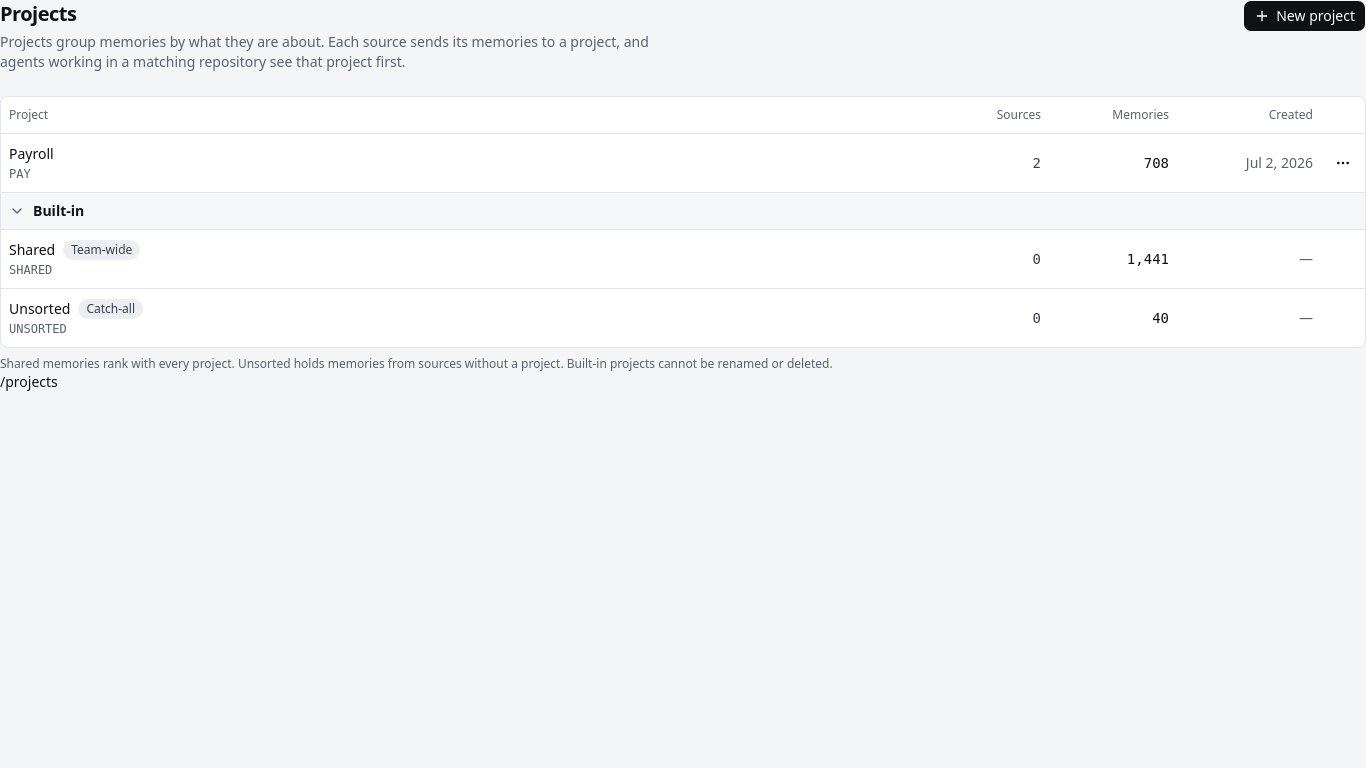
it: reopening the delete dialog reads the counts again even while other data is cached
The width and height of the screenshot is (1366, 768).
Click the button named "Actions for Payroll" at coordinates (1343, 162), box [1329,148,1357,176]
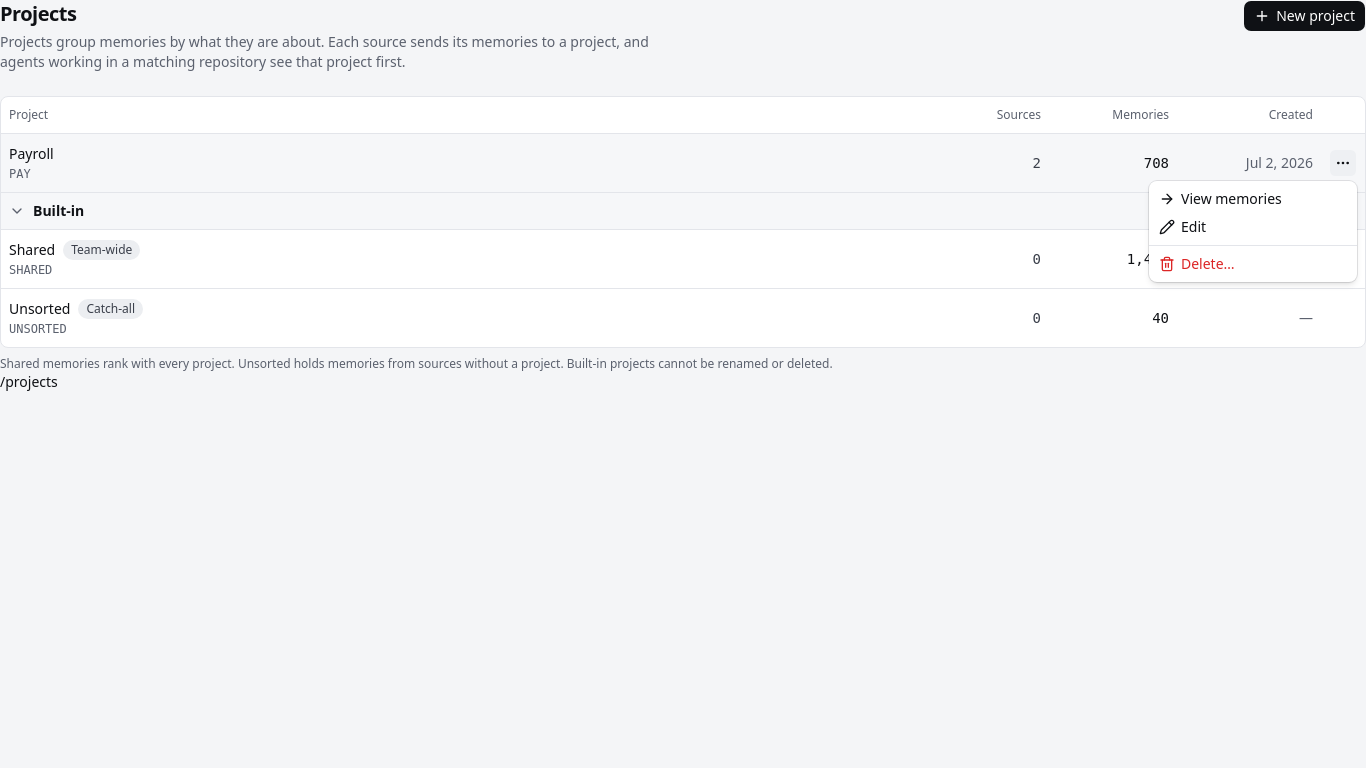
Click the menu item "Delete…" at coordinates (1197, 264), box [1159,254,1235,273]
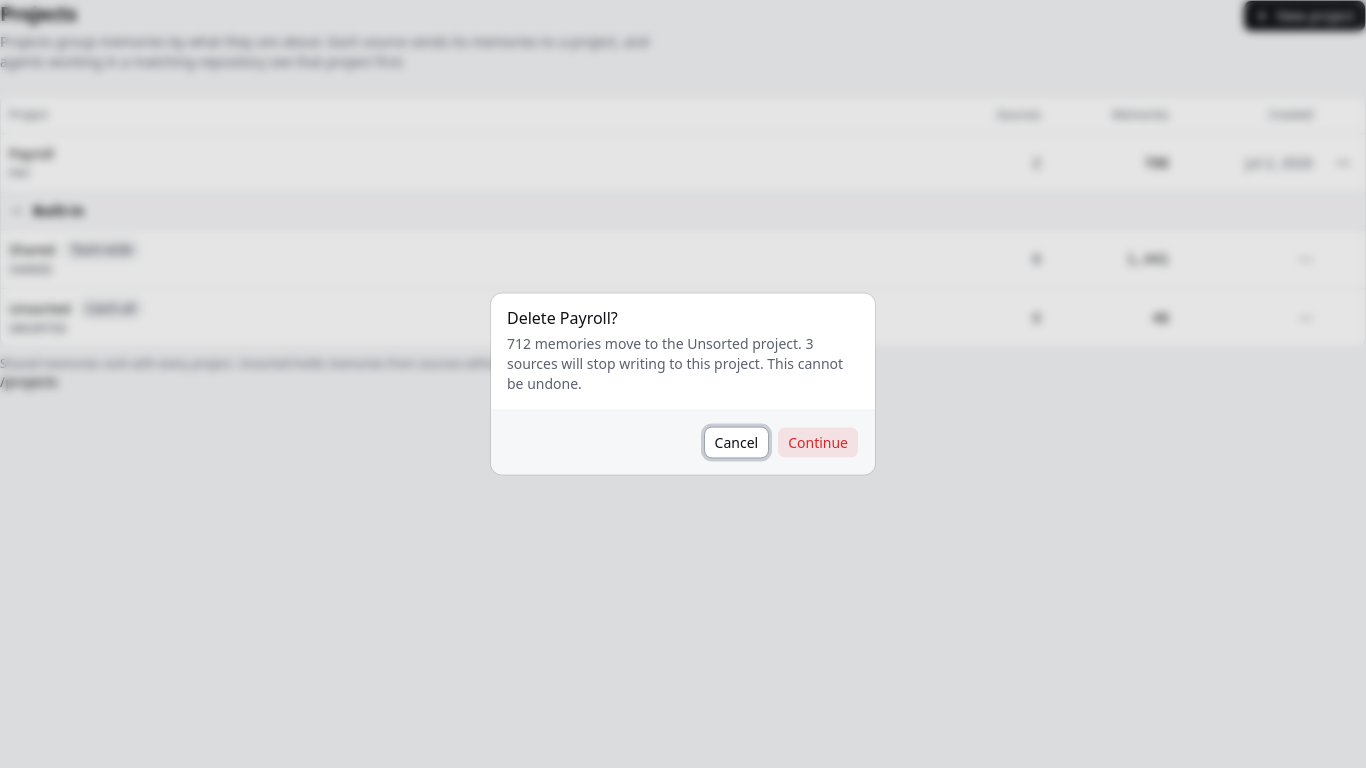
expect the text "3 sources will stop writing to this project." is shown: met, box [507,334,843,392]
Click the button "Cancel" at coordinates (736, 442), box [704,426,769,458]
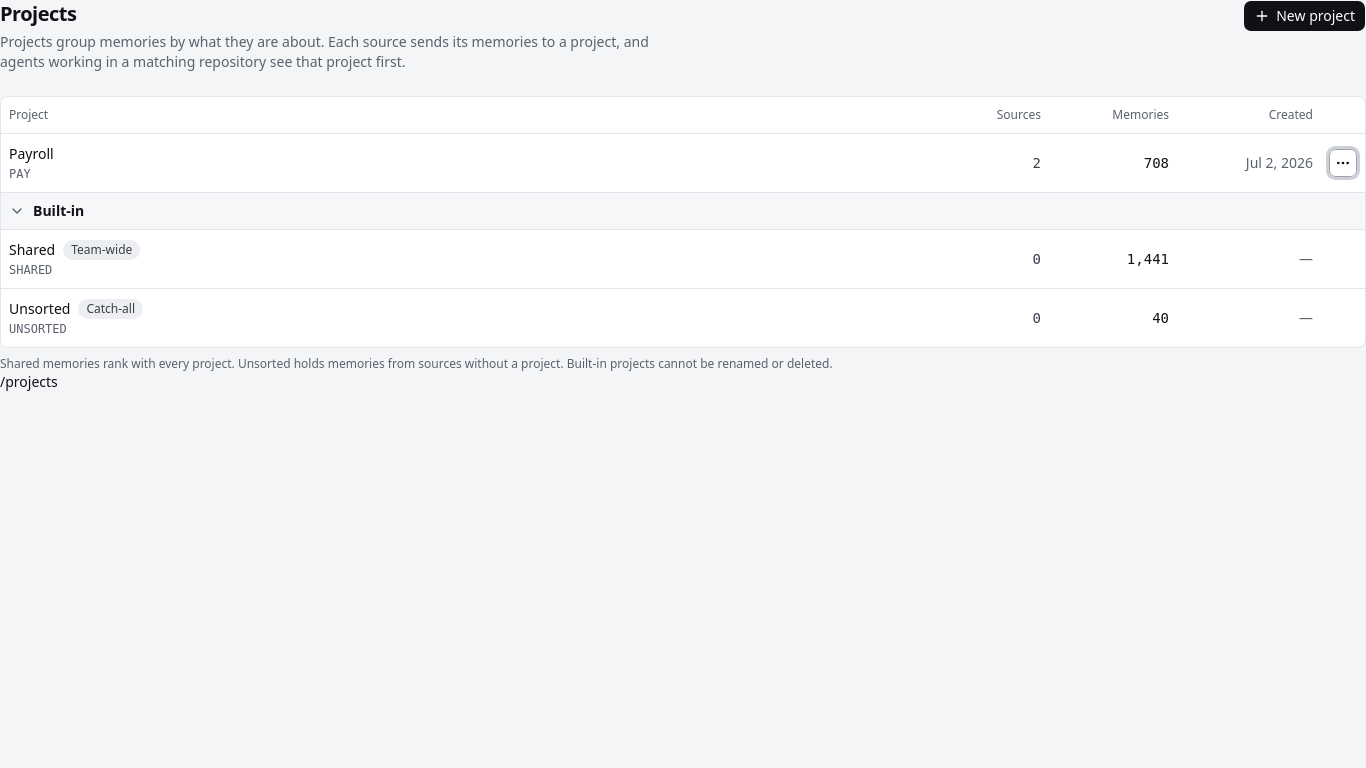
expect the dialog is gone: met
Click the button named "Actions for Payroll" at coordinates (1343, 162), box [1329,148,1357,176]
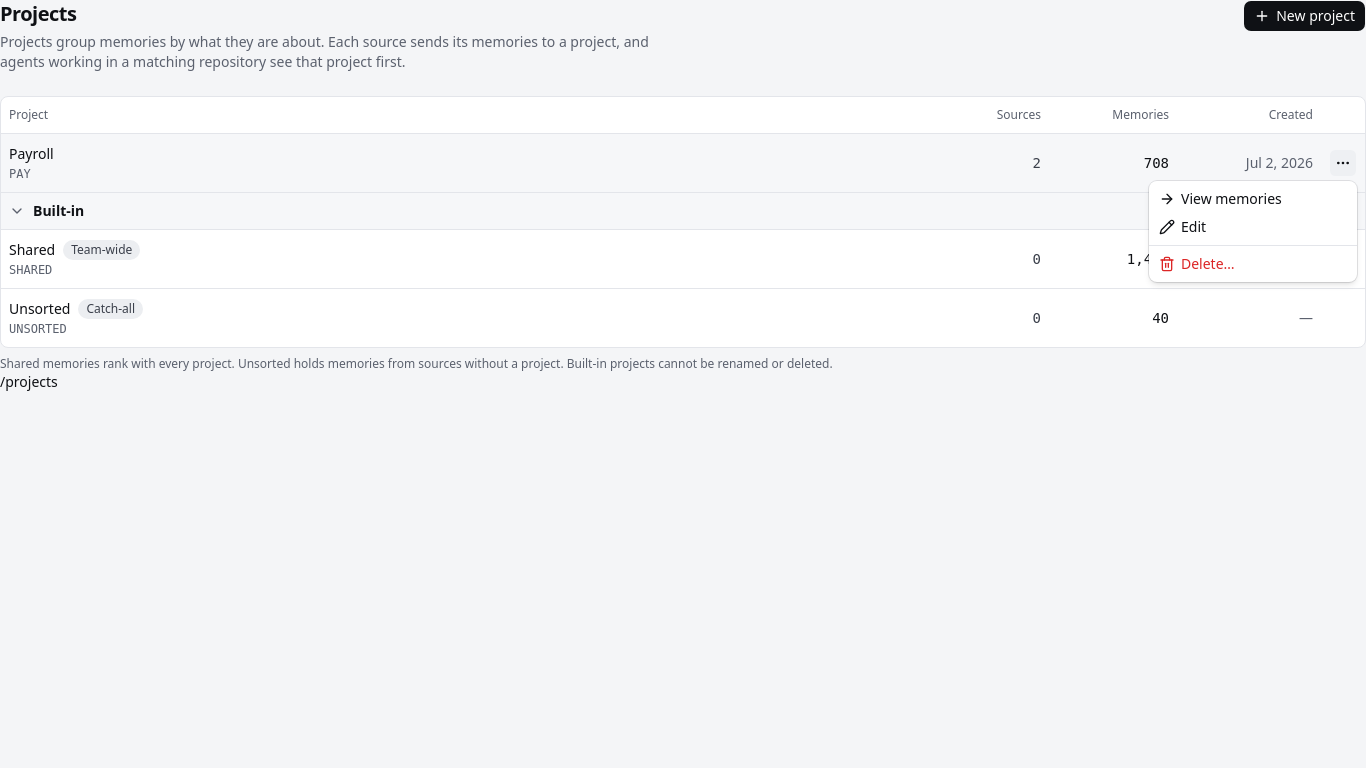
Click the menu item "Delete…" at coordinates (1197, 264), box [1159,254,1235,273]
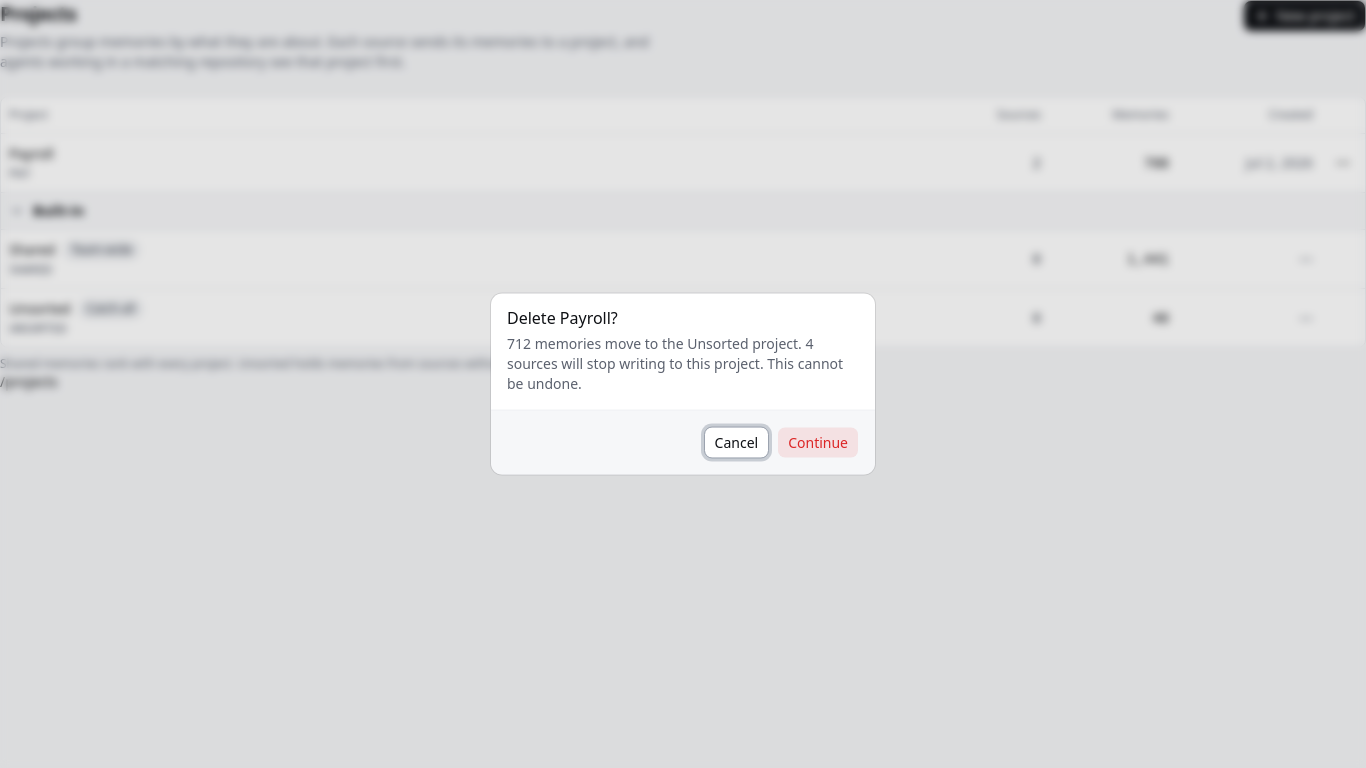
expect the text "4 sources will stop writing to this project." is shown: met, box [507,334,843,392]
